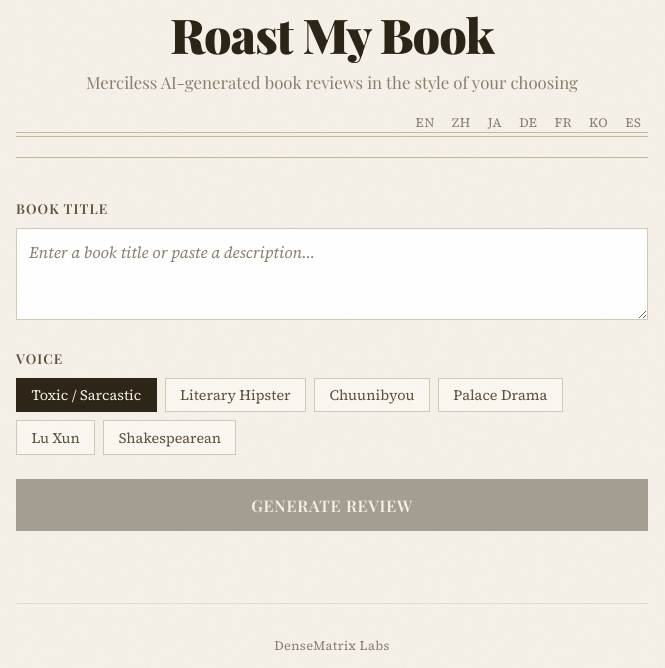
Test case: App › enables generate button when book name is provided
The width and height of the screenshot is (665, 668).
Type "测试书籍" into the text box.
click(332, 274); type("测试书籍")  # box [16, 228, 648, 320]
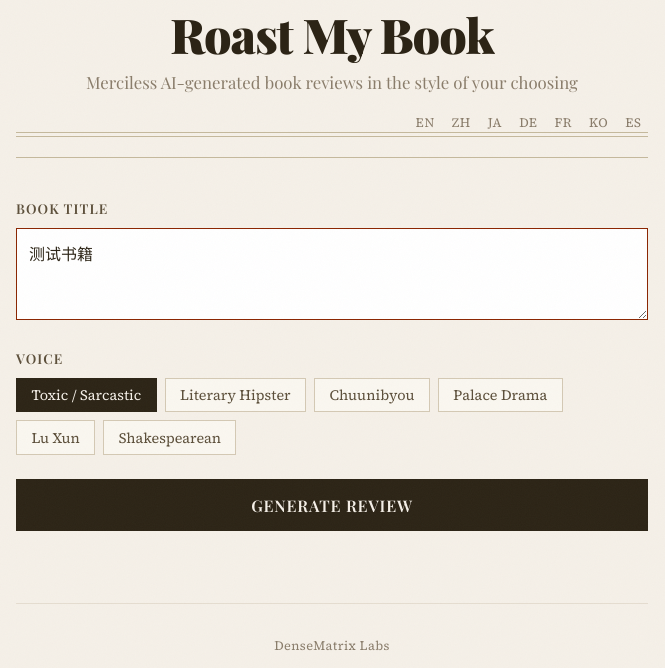
Check: the button "Generate Review" is enabled, box [16, 479, 648, 531]
